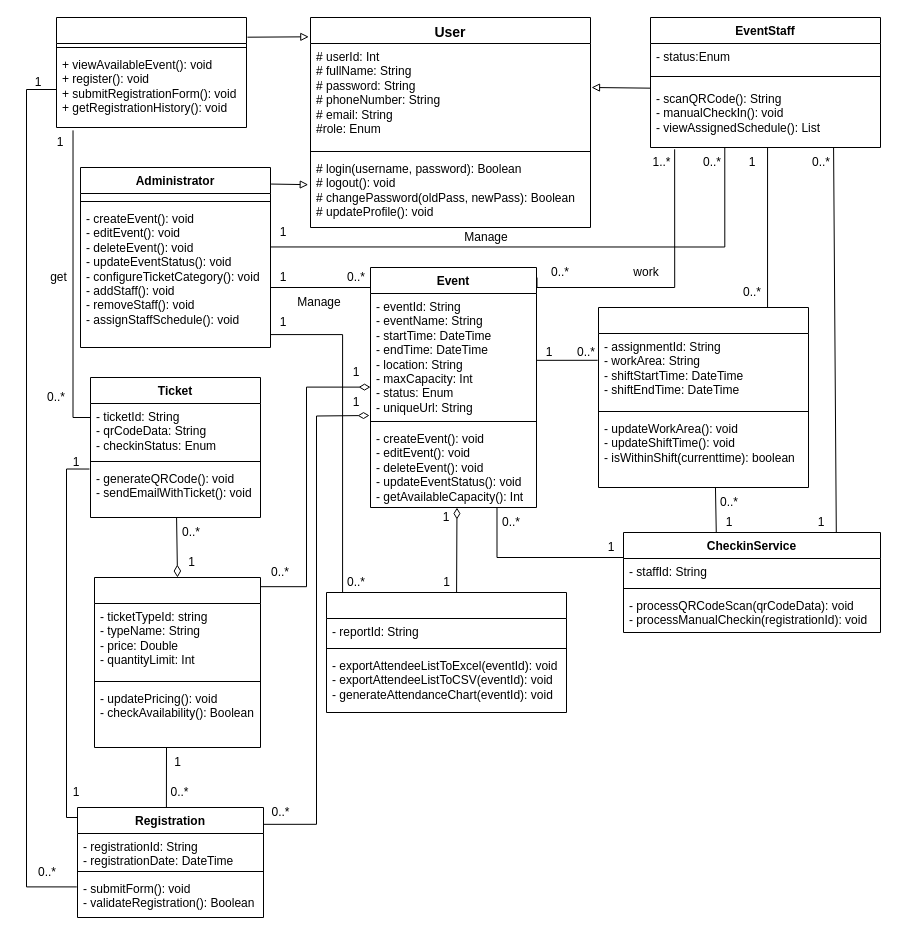
Image size: 898x938. Some labels were removed from this diagram. The shapes that lost their labels are listed below. From the top down, each one's box as (x1, y1, x2, y2) in pixels, then its label:
(56, 16, 246, 128): Attendee
(598, 306, 808, 488): StaffAssignment
(94, 576, 260, 748): TicketCategory
(326, 592, 566, 712): ReportExporter
